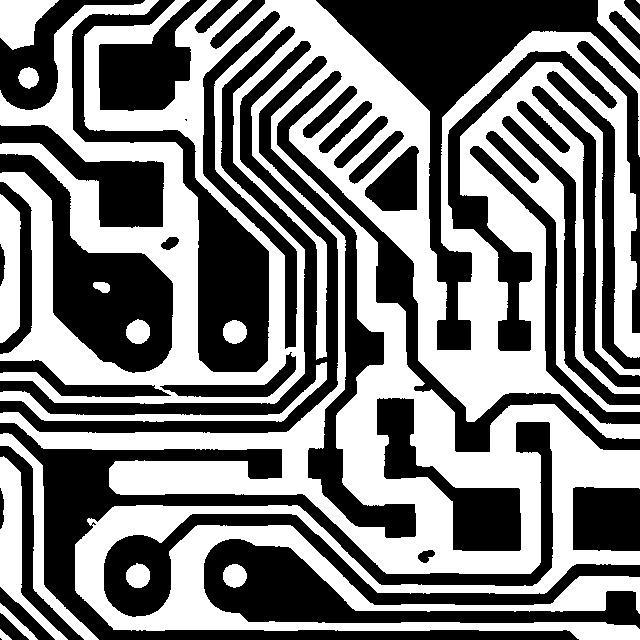copper: (151, 227, 188, 259), (408, 540, 444, 572)
mousebite: (77, 508, 108, 536)
open: (141, 373, 188, 408), (275, 337, 308, 366)
pin-hole: (83, 272, 119, 302)
short: (301, 347, 338, 374)
spur: (404, 372, 444, 401)
